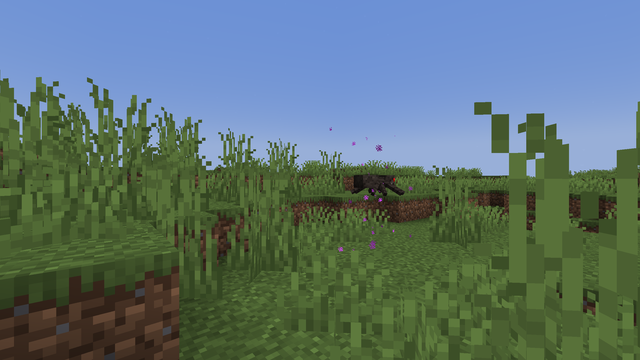araignees: (352, 172, 401, 196)
